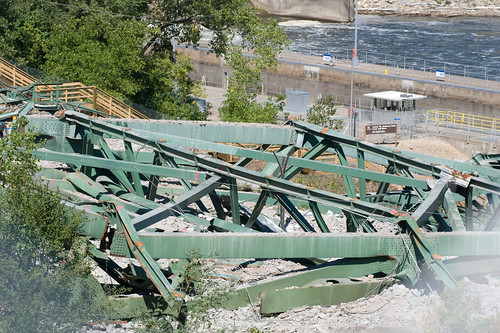debris: (27, 100, 499, 333)
river: (271, 1, 500, 80)
vegetation: (1, 1, 269, 123)
